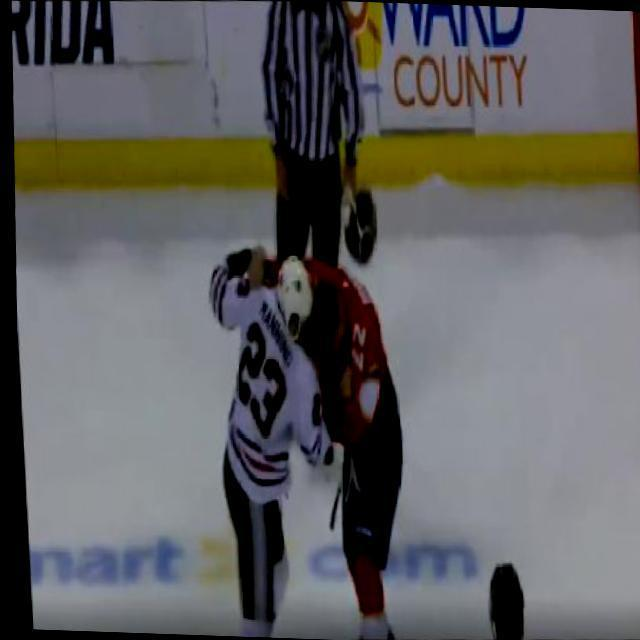fight: (190, 235, 422, 640)
